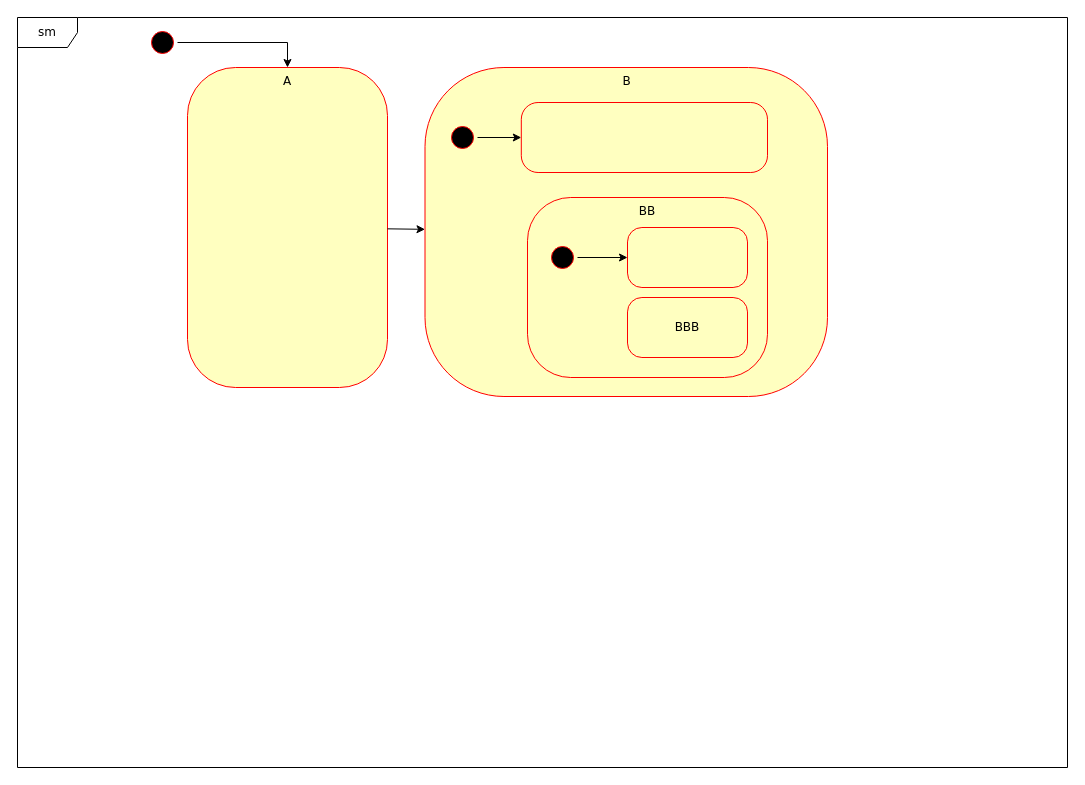
Image size: 1085x785. Some labels were removed from this diagram. The centre of each missing label's shape, as x and y in pixels:
BA: point 644,137
BBA: point 687,257
